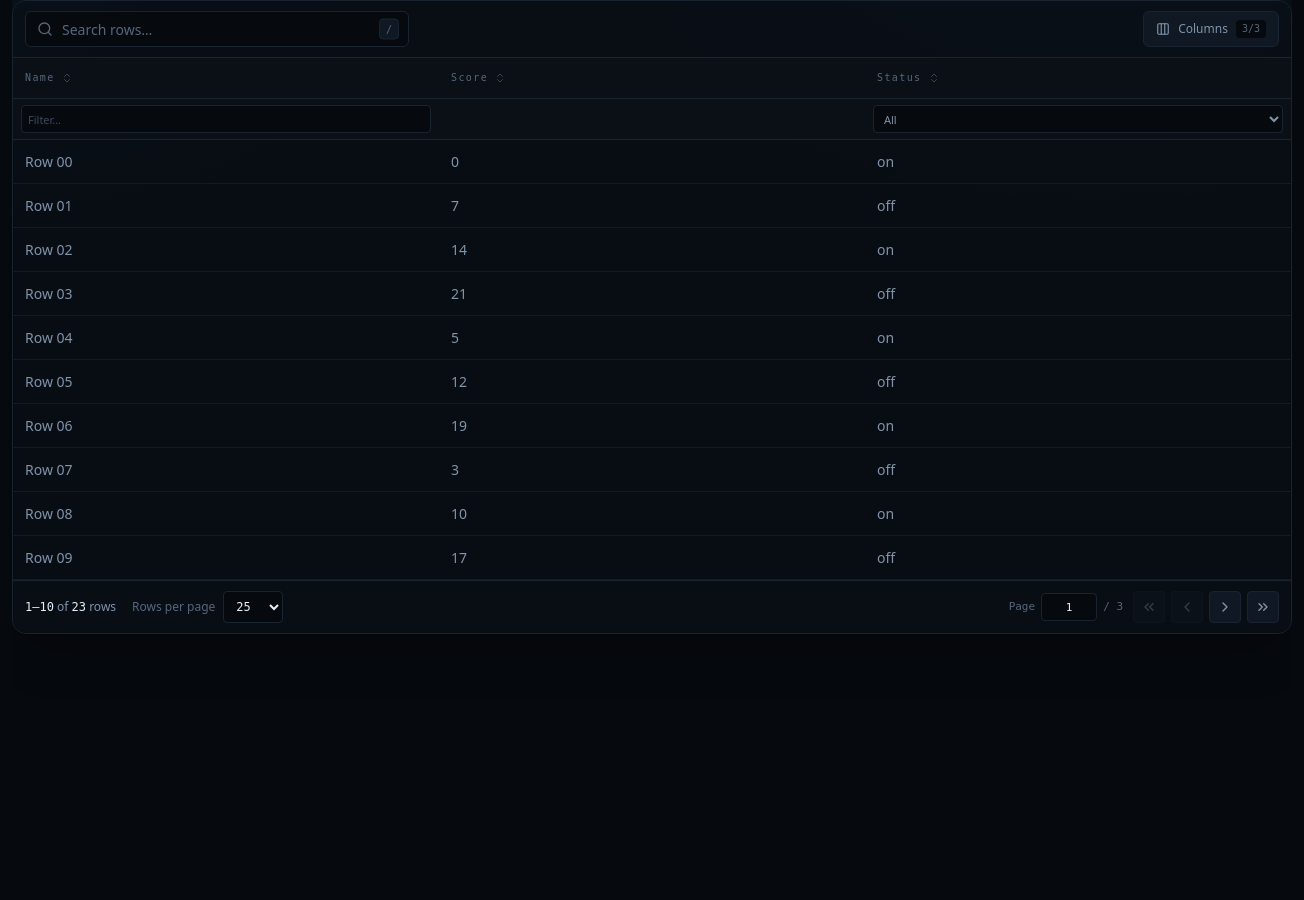
Test: DataGrid › moves to the next page
Click the button named "Next page" at (1225, 607), box [1209, 591, 1241, 623]
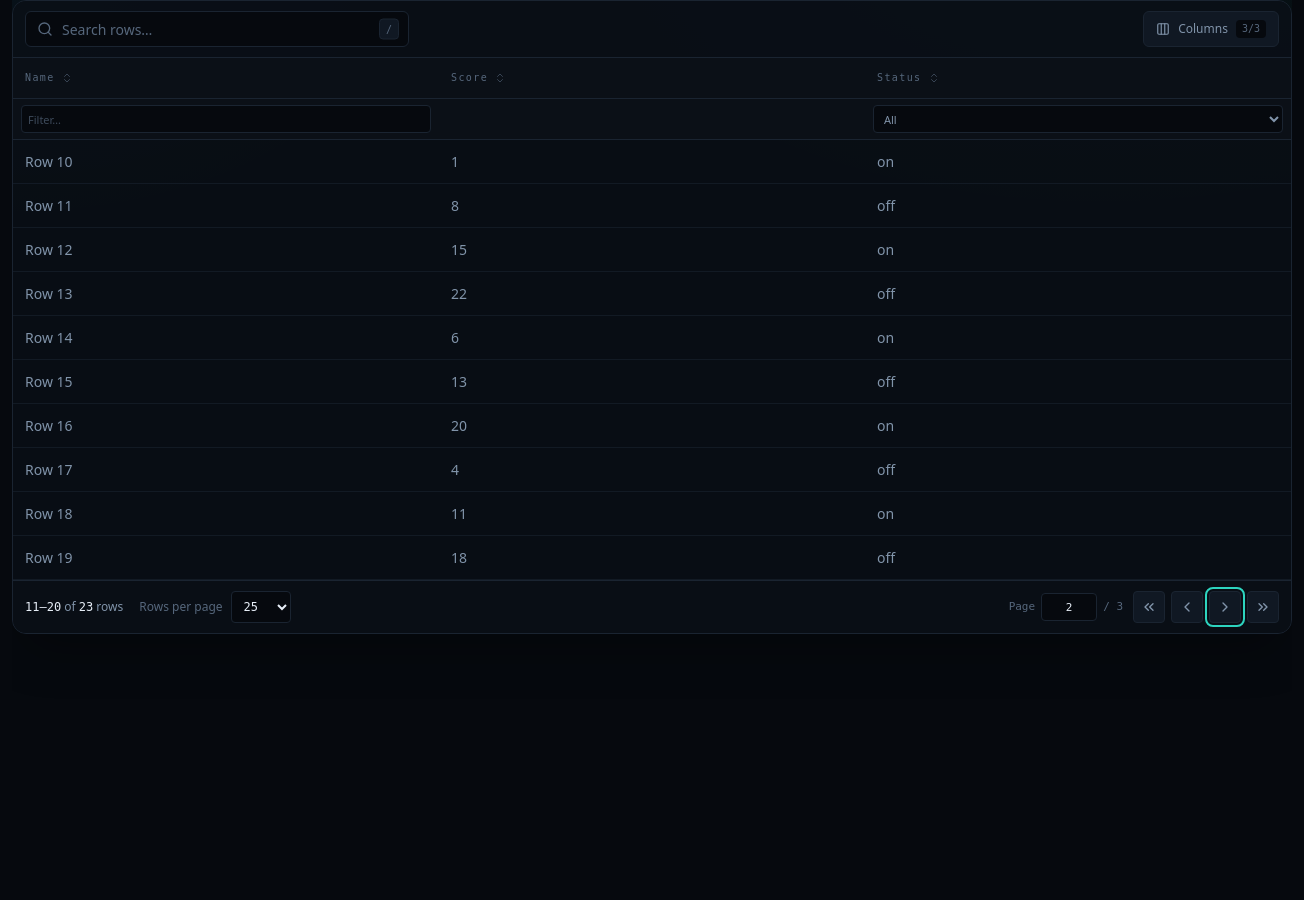
Expected: the field named "Page number" holds "2", [1041, 593, 1097, 621]
Expected: the text "Row 10" is shown, [13, 140, 439, 184]
Expected: the text "Row 00" is gone
